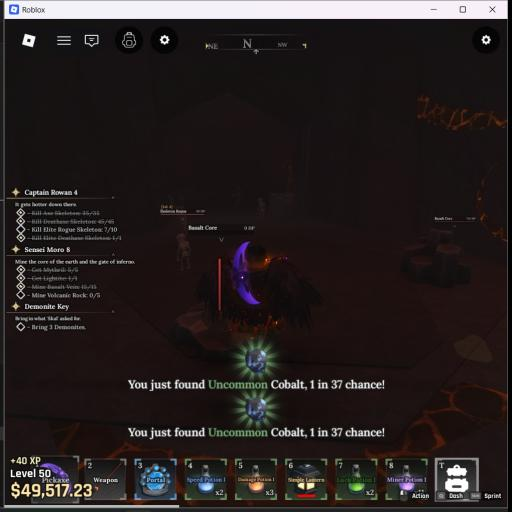player: (219, 242, 322, 335), (196, 271, 219, 321)
rock: (401, 230, 470, 287)
